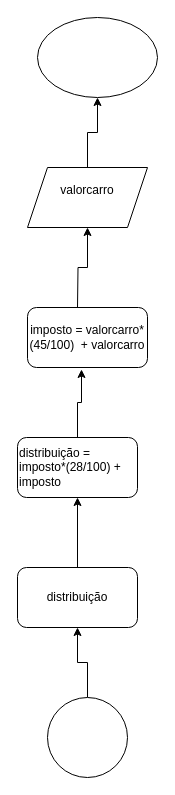
This 175x795 diagram has some shape labels left out. Here are the shapes that lost their labels. From the top down, the centre of each, then its label:
the point at 97,57: início
the point at 87,737: fim
